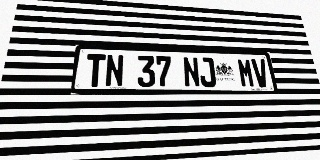3: (138, 55, 155, 87)
7: (155, 56, 173, 87)
J: (198, 57, 217, 87)
M: (237, 58, 256, 87)
N: (105, 54, 124, 87), (182, 57, 201, 87)
T: (85, 54, 106, 87)
V: (251, 59, 270, 87)
